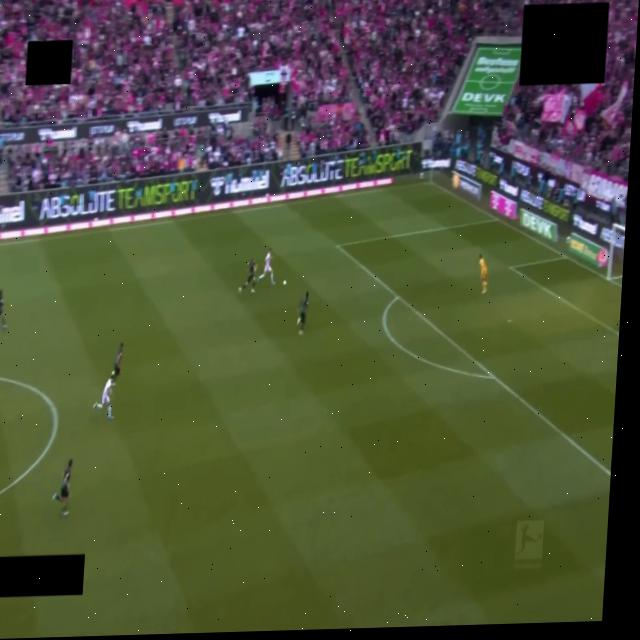ball: (283, 280, 286, 285)
player: (53, 460, 72, 516), (94, 378, 114, 419), (238, 258, 256, 293), (258, 249, 275, 285), (297, 292, 308, 335), (111, 343, 123, 379), (479, 254, 487, 293), (0, 289, 7, 328)
